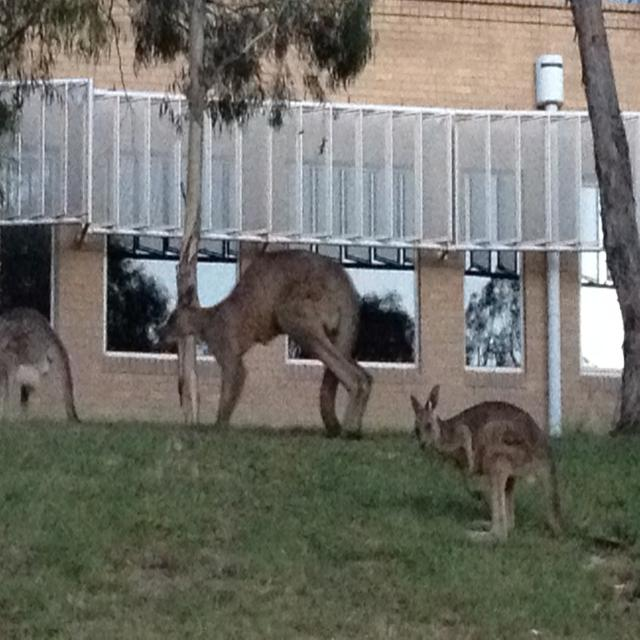kangaroo: (151, 236, 373, 437), (404, 379, 559, 540), (1, 296, 88, 423)
